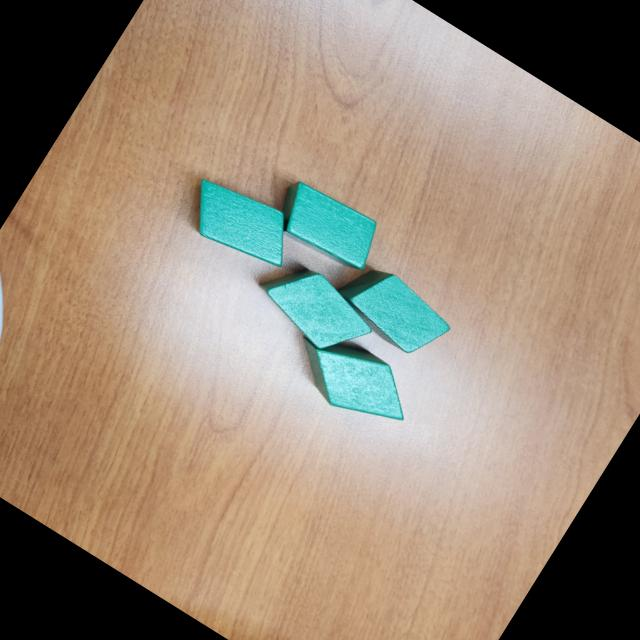green: (284, 320, 426, 444), (245, 248, 381, 366), (176, 166, 308, 280), (328, 253, 458, 366), (264, 172, 386, 278)
